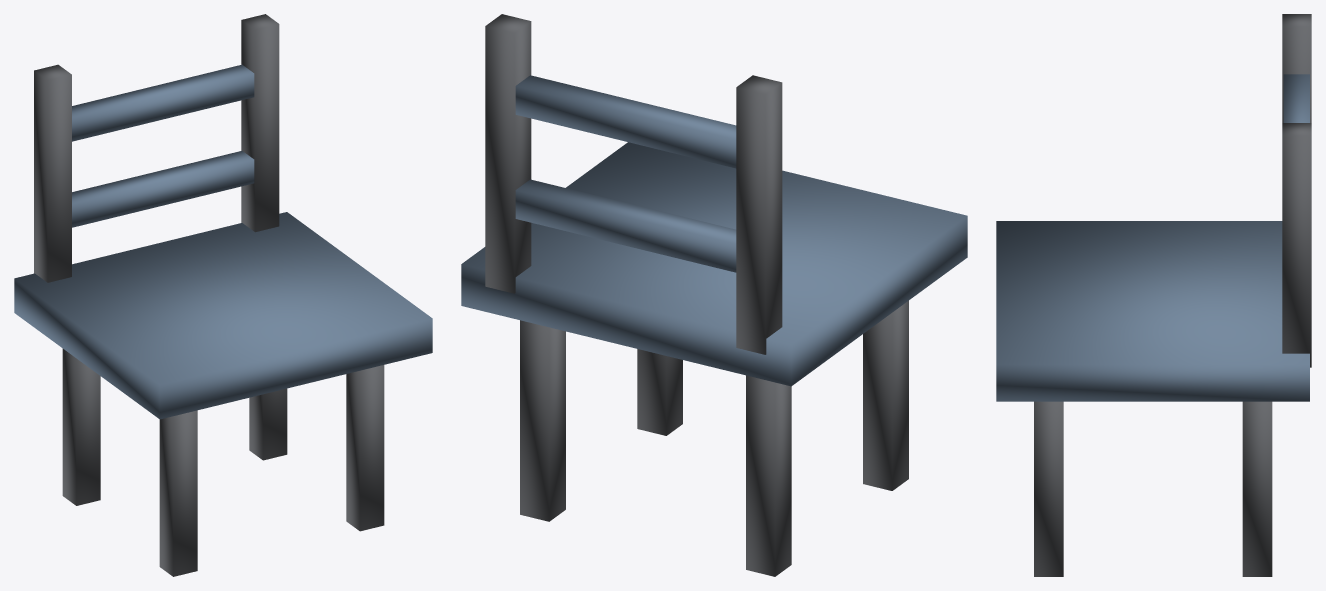
The model's file is jury_chair__squat.glb.
The picture shows the model from 3 angles, left to right: view 1: azimuth 30°, elevation 25°; view 2: azimuth 150°, elevation 25°; view 3: azimuth 270°, elevation 25°; orthographic projection. The views are drawn at different scales.
Parts seen in each view (by area): view 1: world; view 2: world; view 3: world.
Part boxes in pixels (left/top/right/bottom): world: left=14, top=14, right=432, bottom=576; world: left=461, top=14, right=967, bottom=576; world: left=996, top=14, right=1311, bottom=576.
Bounding box in the file's own units: 0.5571 × 0.809 × 0.518.
